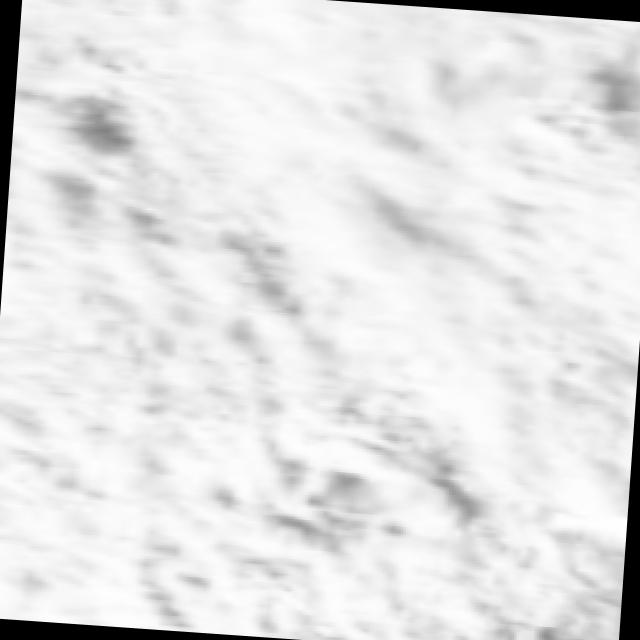CB: (172, 7, 407, 218), (328, 238, 533, 424)
